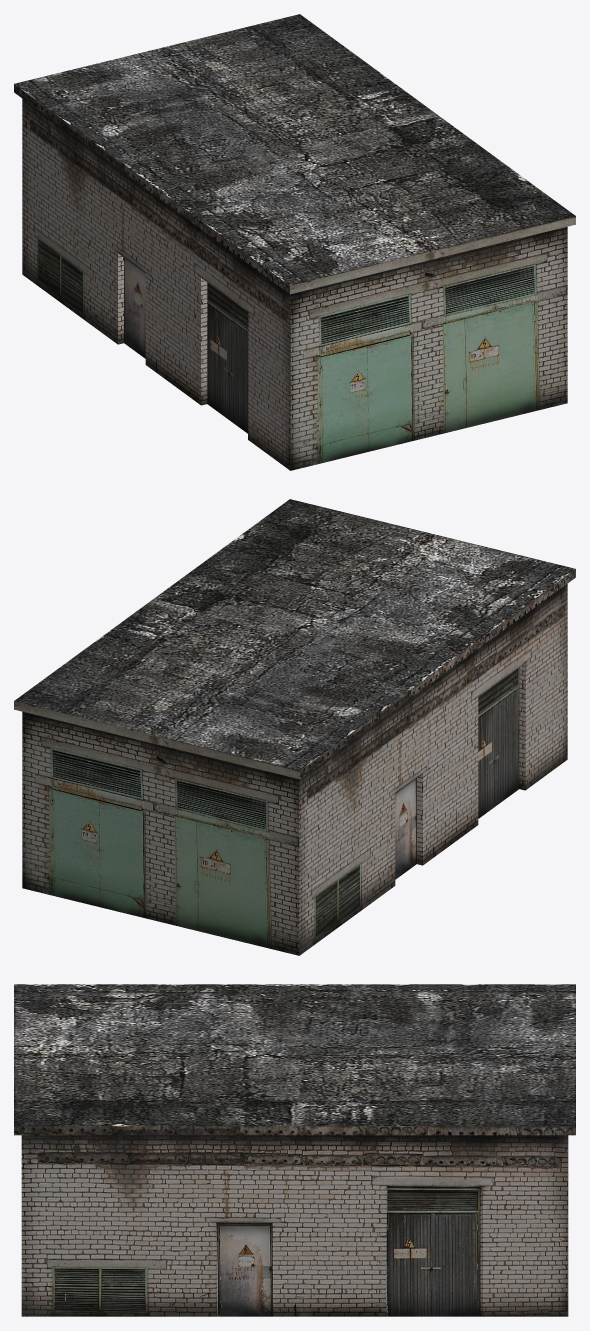
The model's file is sibir_budka5.FBX.
The picture shows the model from 3 angles, top to bottom: view 1: azimuth 30°, elevation 25°; view 2: azimuth 150°, elevation 25°; view 3: azimuth 270°, elevation 25°; orthographic projection.
Visible parts, largest first — view 1: sibir_budka5; view 2: sibir_budka5; view 3: sibir_budka5.
Part boxes in pixels (x1,y1,x2,y2): sibir_budka5: (14, 14, 575, 470); sibir_budka5: (14, 499, 575, 955); sibir_budka5: (14, 984, 575, 1316).
Bounding box in the file's own units: 658 × 1099 × 415.
